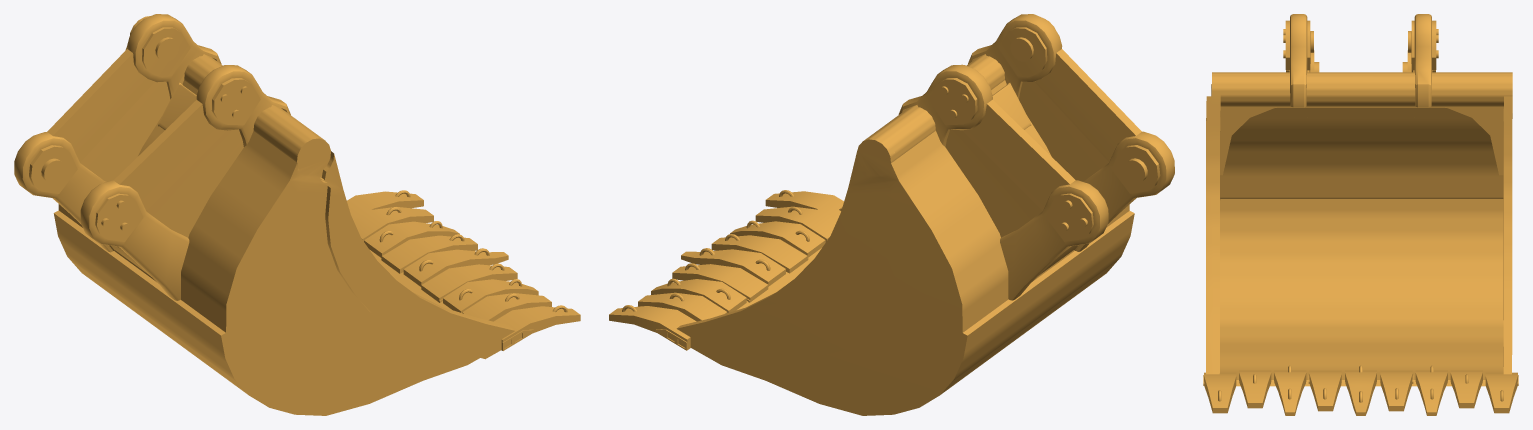
The model's file is Excavator Bucket.fbx.
The picture shows the model from 3 angles, left to right: view 1: azimuth 30°, elevation 25°; view 2: azimuth 150°, elevation 25°; view 3: azimuth 270°, elevation 25°; orthographic projection. The views are drawn at different scales.
Parts seen in each view (by area): view 1: Circle.009, Circle.002, Cube.015, Cube.012, Cube.006, Cube.009, Cube.016, Cylinder.037; view 2: Circle.009, Circle.002, Cube.015, Cube.006, Cube.012, Cube.009, Cube.016, Cylinder.037; view 3: Circle.009, Circle.002, Cube.017, Cube.015, Cube.012, Cube.006, Cube.009, Cube.016, Cylinder.037.
Part boxes in pixels (bbox=[...]): Circle.009: bbox=[53, 16, 514, 415]; Circle.002: bbox=[14, 14, 290, 300]; Cube.015: bbox=[381, 234, 517, 302]; Cube.012: bbox=[364, 221, 538, 312]; Cube.006: bbox=[347, 190, 580, 350]; Cube.009: bbox=[353, 207, 551, 321]; Cube.016: bbox=[403, 248, 508, 286]; Cylinder.037: bbox=[41, 37, 178, 183]; Circle.009: bbox=[676, 20, 1134, 415]; Circle.002: bbox=[898, 14, 1174, 300]; Cube.015: bbox=[672, 234, 808, 302]; Cube.006: bbox=[609, 190, 843, 350]; Cube.012: bbox=[651, 220, 825, 312]; Cube.009: bbox=[638, 206, 836, 321]; Cube.016: bbox=[681, 248, 785, 286]; Cylinder.037: bbox=[1010, 37, 1147, 183]; Circle.009: bbox=[1206, 72, 1512, 386]; Circle.002: bbox=[1285, 14, 1436, 107]; Cube.017: bbox=[1220, 107, 1503, 175]; Cube.015: bbox=[1308, 370, 1413, 411]; Cube.012: bbox=[1274, 365, 1447, 415]; Cube.006: bbox=[1203, 372, 1518, 413]; Cube.009: bbox=[1239, 370, 1482, 408]; Cube.016: bbox=[1345, 365, 1376, 415]; Cylinder.037: bbox=[1310, 31, 1411, 72].
Bounding box in the file's own units: 270 × 184 × 180.
